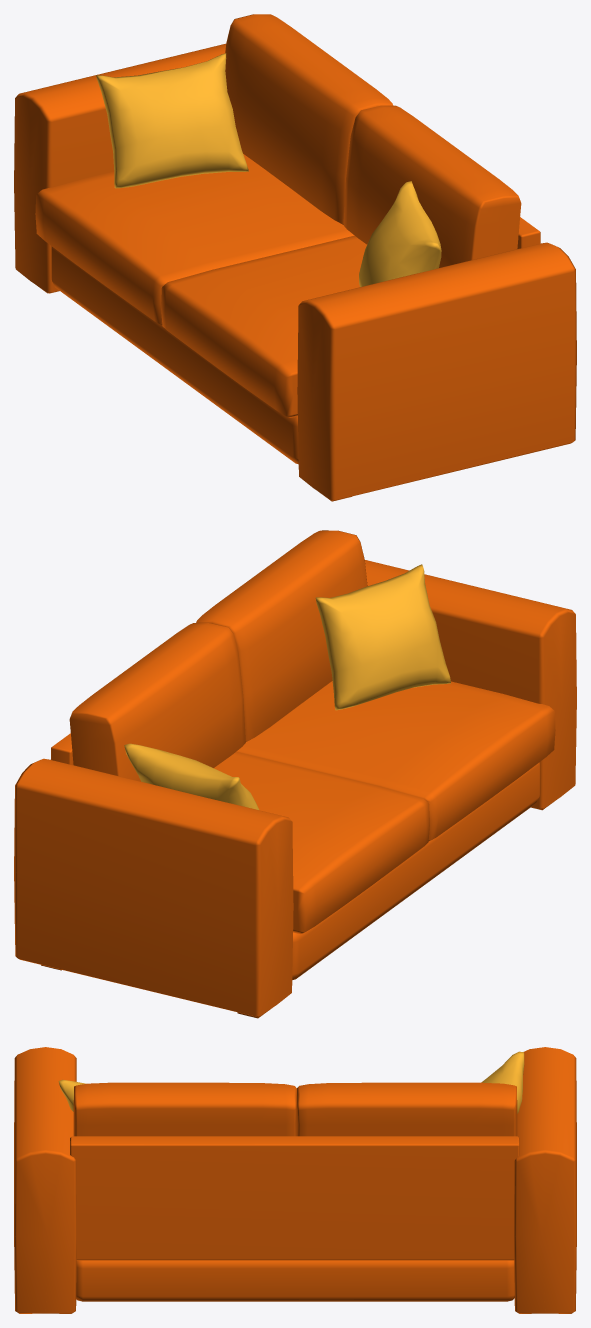
Rendered from Sofa.fbx.
3 views of the same model, one above another, from view 1: azimuth 30°, elevation 25°; view 2: azimuth 150°, elevation 25°; view 3: azimuth 270°, elevation 25° (orthographic). The views are drawn at different scales.
Parts seen in each view (by area): view 1: Sofa_clear; view 2: Sofa_clear; view 3: Sofa_clear.
Boxes of the visible parts, box(x1,y1,x2,y2) form: Sofa_clear: box(14, 14, 576, 501); Sofa_clear: box(14, 530, 576, 1018); Sofa_clear: box(14, 1047, 576, 1313).
Bounding box in the file's own units: 1.32 × 1.17 × 2.77.
